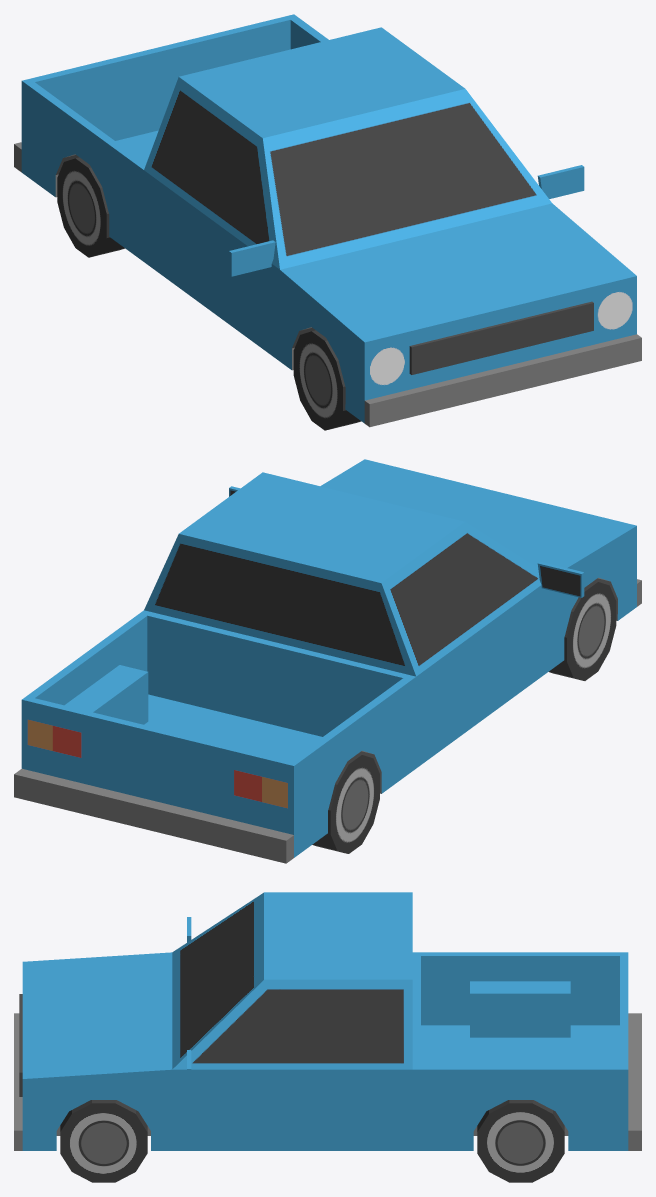
Rendered from Pickup.fbx.
3 views of the same model, one above another, from view 1: azimuth 30°, elevation 25°; view 2: azimuth 150°, elevation 25°; view 3: azimuth 270°, elevation 25° (orthographic). The views are drawn at different scales.
Parts seen in each view (by area): view 1: Pickup; view 2: Pickup; view 3: Pickup.
Part boxes in pixels (x1,y1,x2,y2): Pickup: (14,14,641,430); Pickup: (14,459,641,863); Pickup: (14,892,641,1182).
Size of the model in its own units: 263 by 151 by 459.
